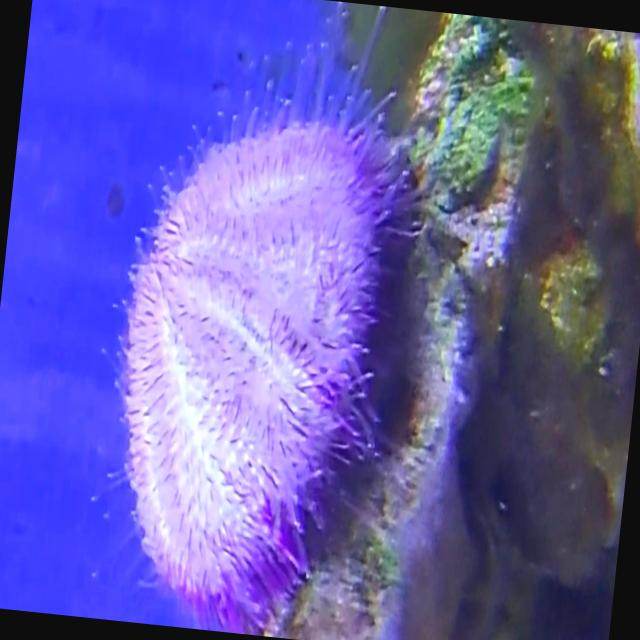Deniz Kestanesi: (96, 73, 430, 634)
